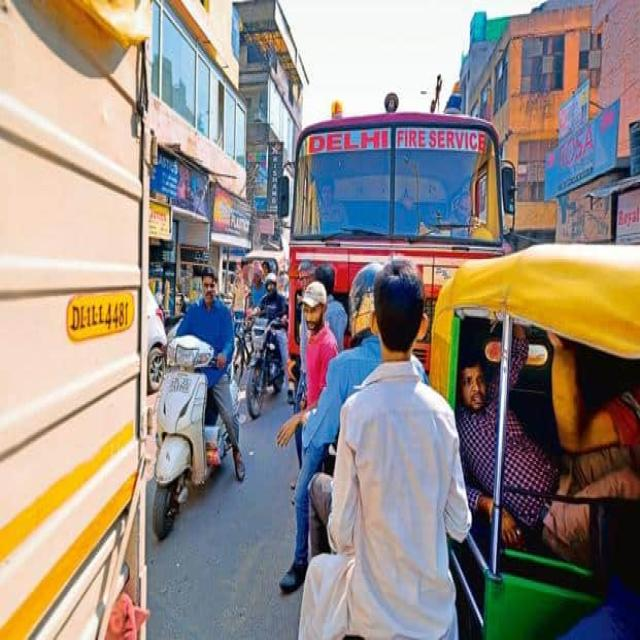autorickshaw: (430, 245, 640, 639)
bus: (289, 112, 502, 353)
motorcycle: (154, 269, 244, 536)
